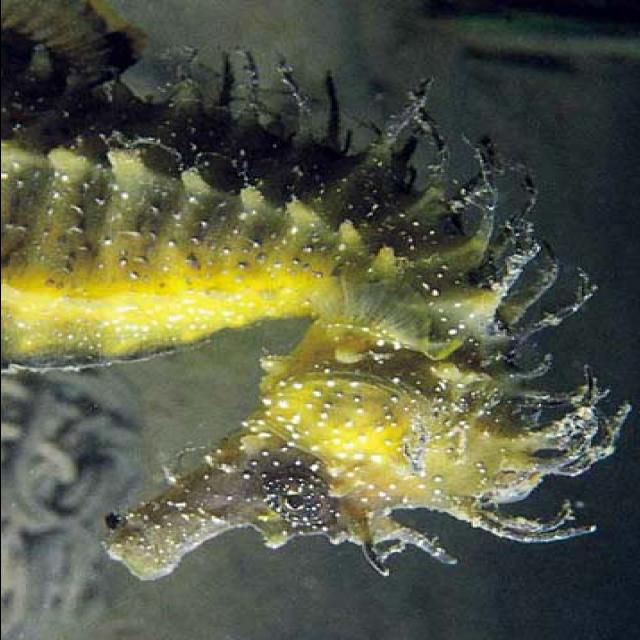Guttu: (96, 346, 554, 584)
